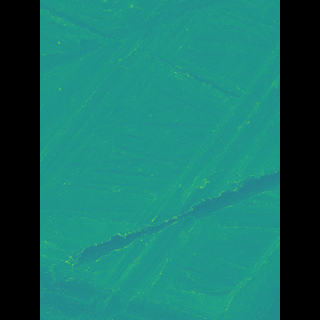Loch: (100, 31, 249, 319), (70, 0, 204, 245), (90, 166, 250, 275), (201, 234, 251, 319)
